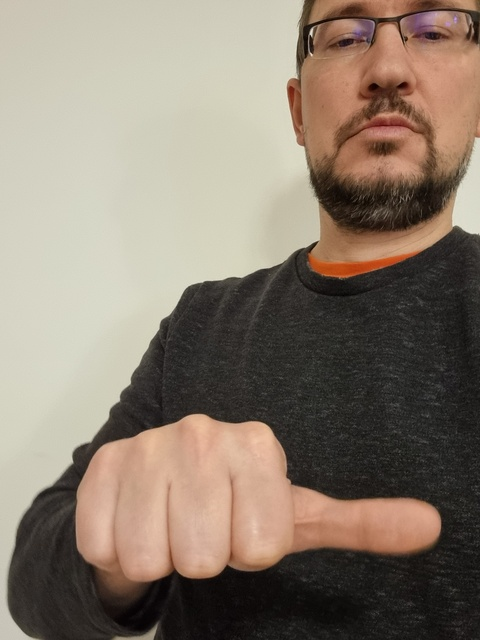GestBack: (74, 413, 440, 582)
